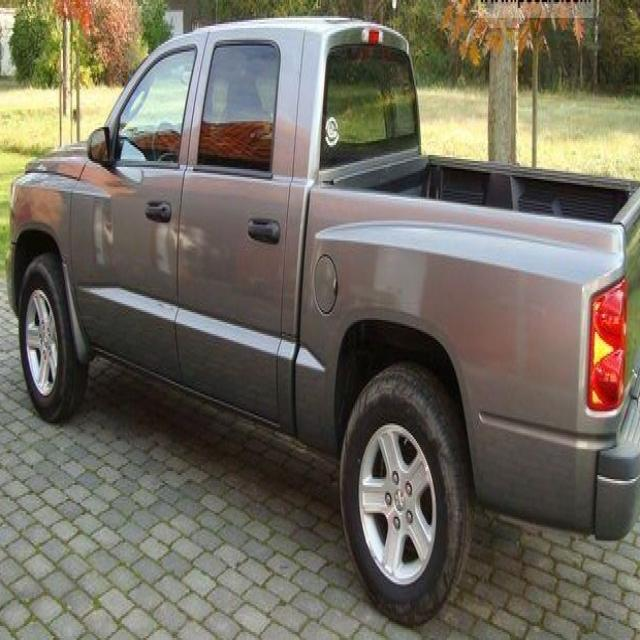CMT: (12, 30, 633, 535)
